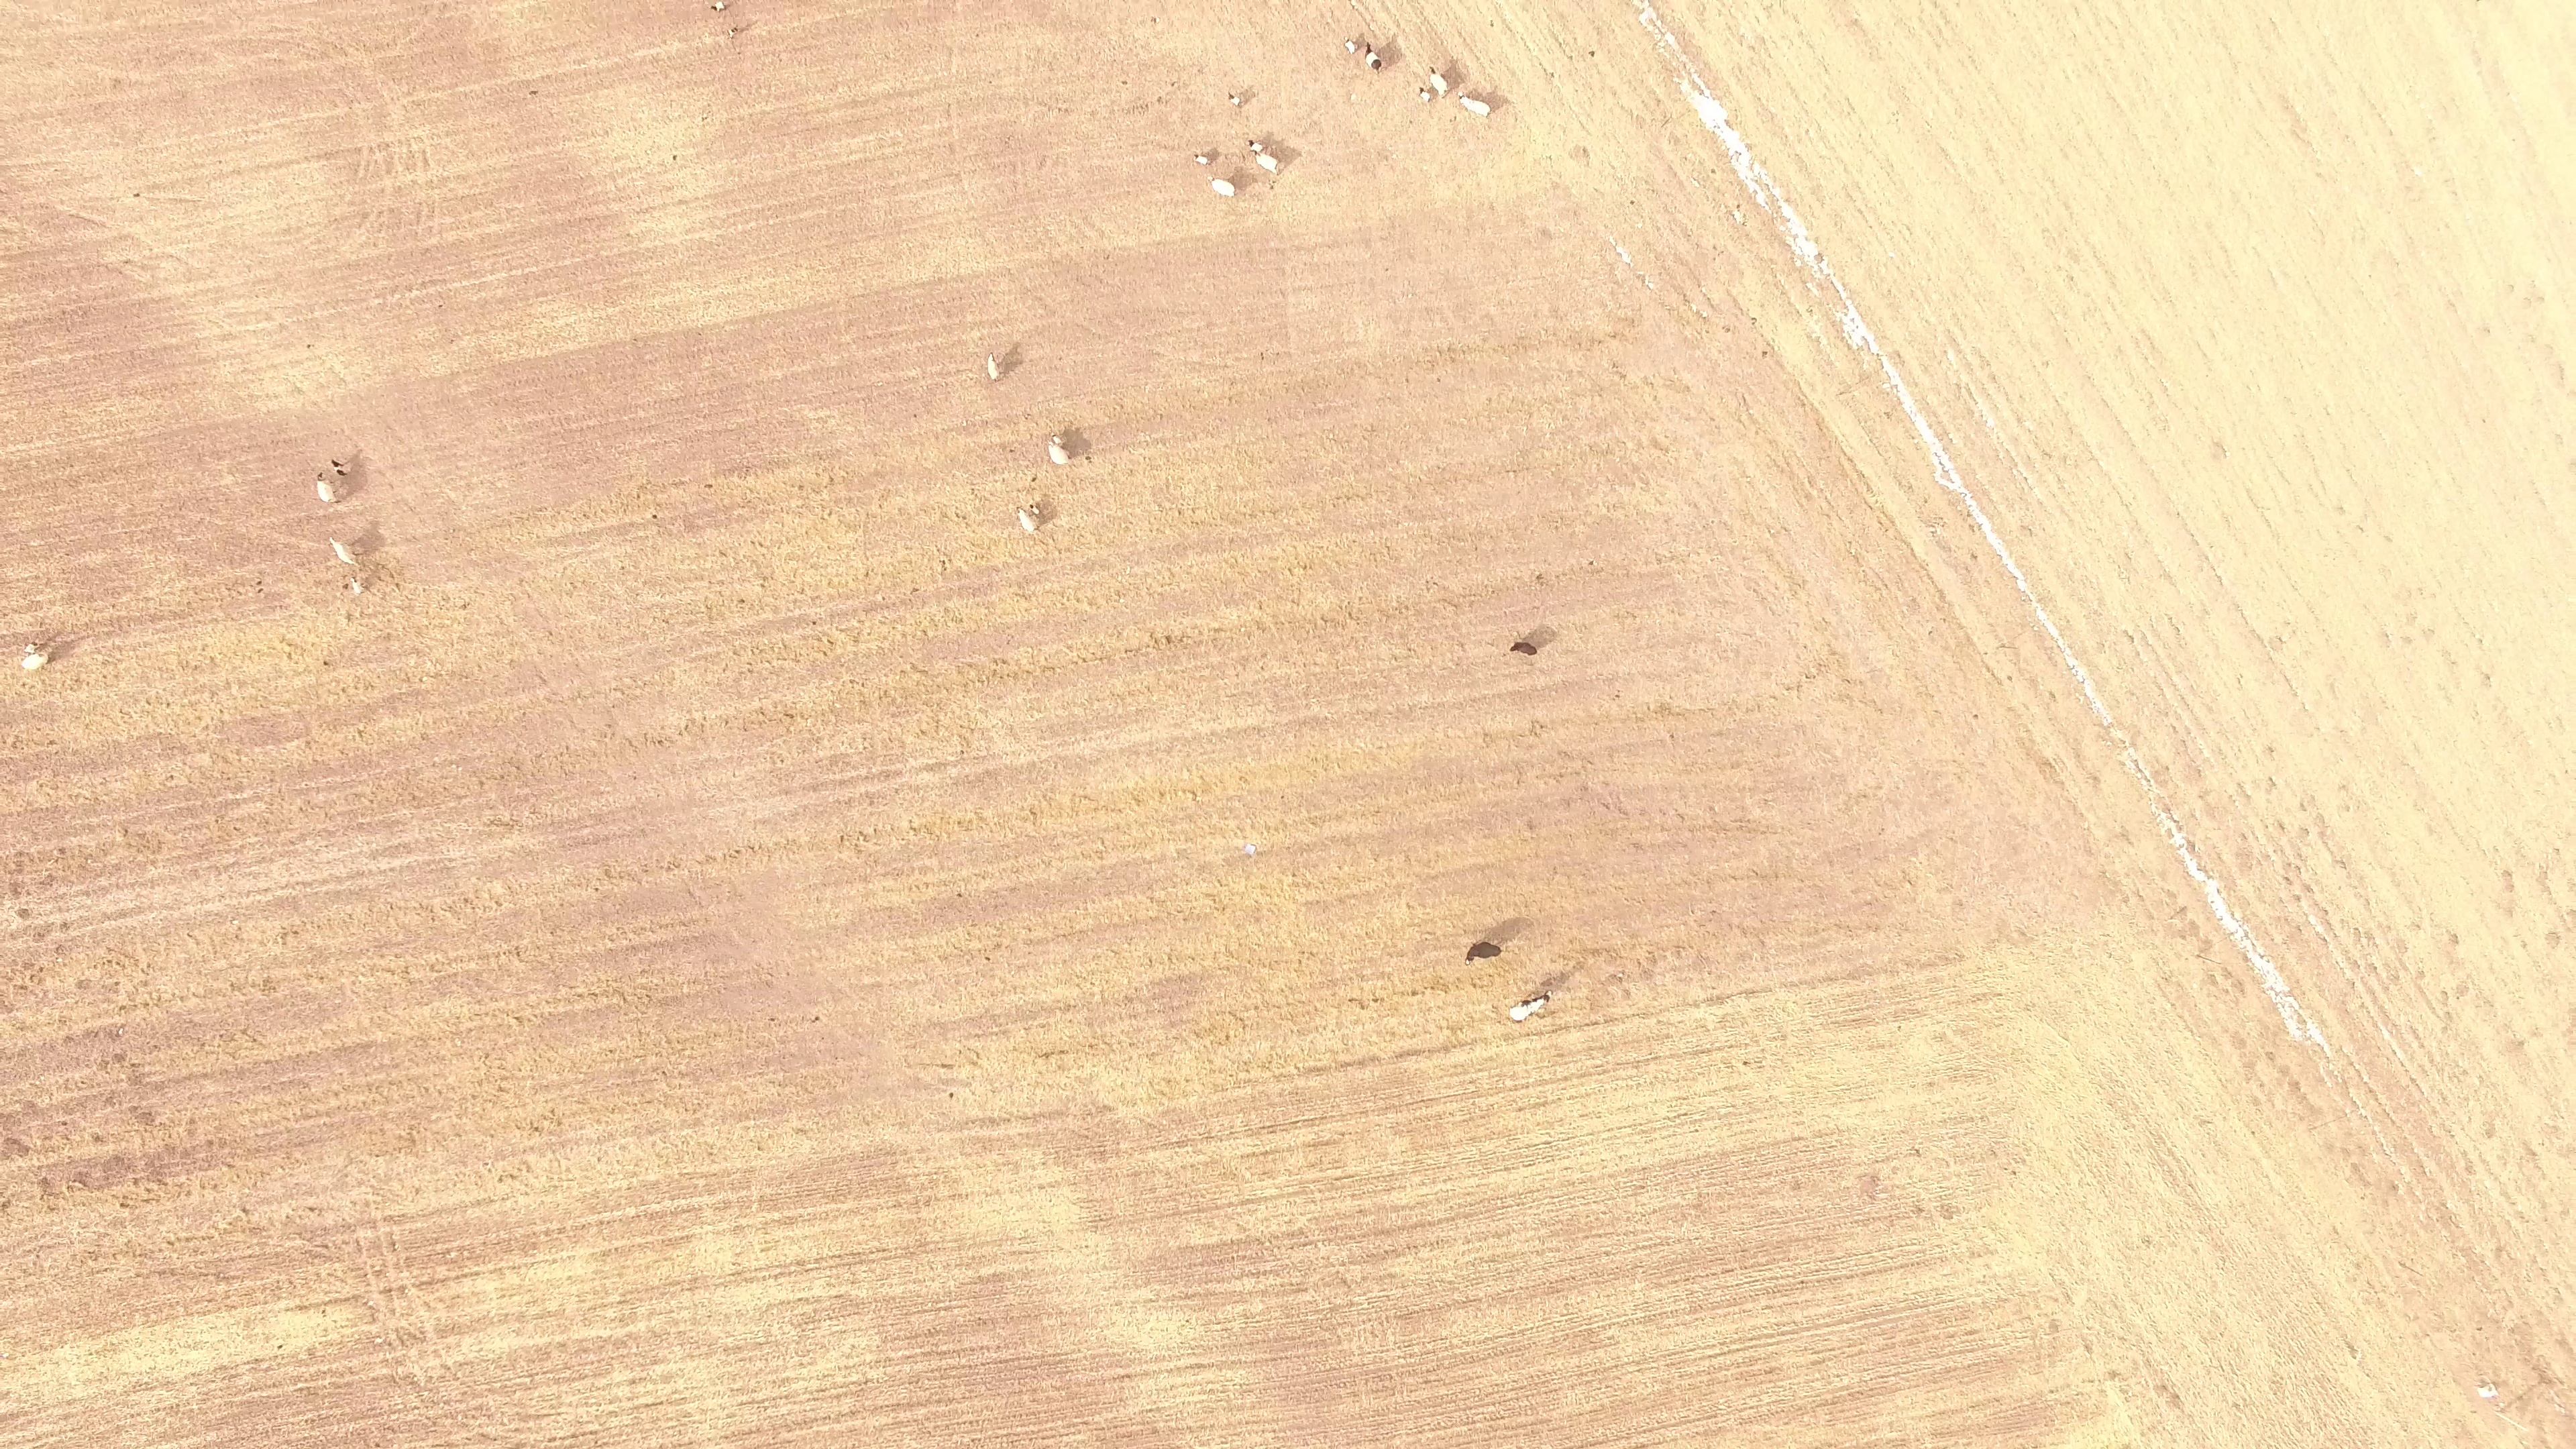sheep: (1509, 990, 1554, 1025), (1464, 934, 1504, 964), (1454, 91, 1496, 119), (15, 645, 54, 676), (328, 537, 360, 570), (310, 469, 339, 506), (1203, 172, 1242, 199), (981, 347, 1004, 386), (1044, 440, 1074, 472), (1013, 504, 1040, 538), (1427, 64, 1450, 99), (1253, 148, 1285, 174), (1361, 41, 1386, 74), (1506, 637, 1540, 659), (1188, 148, 1216, 169), (347, 576, 368, 598), (1245, 136, 1269, 158), (330, 458, 351, 481), (1339, 36, 1360, 55), (1226, 91, 1245, 111), (708, 1, 732, 13), (1415, 83, 1432, 105)
unknown: (1043, 500, 1061, 532), (1000, 357, 1026, 377), (44, 643, 64, 667), (354, 535, 371, 550), (2475, 1385, 2492, 1400), (1538, 975, 1556, 989), (3, 1134, 20, 1148), (36, 639, 52, 653), (2214, 902, 2226, 918), (76, 1176, 89, 1188), (1508, 918, 1519, 930), (1163, 633, 1175, 646), (239, 1205, 252, 1216), (2188, 841, 2198, 855), (45, 634, 58, 644), (1, 1413, 10, 1426), (2169, 1390, 2182, 1402), (2537, 1373, 2548, 1386), (297, 1302, 309, 1313), (130, 1177, 142, 1188), (39, 1177, 51, 1187), (938, 1061, 950, 1071), (1355, 1058, 1368, 1069), (1057, 1047, 1068, 1057), (1358, 1002, 1368, 1013), (118, 1002, 129, 1013), (1409, 987, 1419, 999), (1489, 928, 1501, 941), (46, 737, 58, 748), (320, 658, 333, 669), (64, 639, 74, 651), (340, 581, 352, 592), (1006, 347, 1017, 359), (1499, 95, 1510, 106), (545, 1436, 555, 1446), (587, 1428, 598, 1438), (1122, 1371, 1132, 1381), (2109, 1370, 2119, 1380), (325, 1297, 335, 1307), (380, 1287, 391, 1297), (388, 1238, 398, 1249), (182, 1234, 193, 1245), (1296, 1228, 1307, 1238), (1945, 1212, 1956, 1222), (307, 1204, 317, 1215), (1, 1201, 11, 1212), (117, 1200, 127, 1210), (1913, 1146, 1923, 1157), (21, 1144, 32, 1155), (205, 1137, 216, 1148), (409, 1136, 419, 1146), (531, 1124, 541, 1134), (946, 1089, 957, 1100), (1561, 1074, 1571, 1084), (1313, 1065, 1324, 1075), (111, 1051, 122, 1061), (1410, 1048, 1420, 1059), (1697, 1047, 1707, 1057), (2313, 1032, 2323, 1042), (812, 1014, 822, 1024), (513, 1014, 523, 1024), (111, 979, 122, 989), (1558, 970, 1568, 980), (36, 965, 46, 975), (2252, 959, 2262, 969), (60, 920, 70, 930), (9, 920, 19, 931), (10, 885, 21, 896), (2192, 870, 2202, 881), (14, 866, 25, 877), (57, 845, 68, 857), (1248, 843, 1258, 854), (954, 818, 964, 828), (289, 739, 299, 749), (786, 711, 797, 722), (2483, 673, 2493, 683), (23, 643, 34, 655), (54, 628, 64, 639), (809, 618, 819, 628), (362, 574, 372, 586), (1534, 572, 1545, 583), (1047, 512, 1057, 522), (649, 512, 660, 522), (1083, 453, 1093, 463), (1249, 175, 1259, 185), (1708, 166, 1718, 176), (1242, 95, 1252, 105), (1587, 48, 1598, 59), (372, 1440, 383, 1449), (1759, 348, 1770, 358), (568, 1431, 579, 1441), (1149, 1427, 1159, 1437), (2516, 1393, 2526, 1403), (526, 1371, 536, 1381), (1197, 1361, 1207, 1371), (2347, 1342, 2357, 1352), (426, 1278, 436, 1288), (530, 1239, 540, 1249), (75, 1169, 85, 1179), (226, 1161, 236, 1171), (60, 1119, 70, 1129), (129, 1060, 139, 1070), (1740, 1058, 1750, 1069), (113, 1030, 123, 1040), (1371, 996, 1381, 1006), (105, 957, 115, 967), (462, 896, 472, 906), (2504, 870, 2514, 880), (837, 833, 847, 843), (655, 737, 665, 747), (737, 596, 747, 606), (131, 191, 142, 201), (513, 1440, 523, 1449), (130, 1104, 140, 1114), (366, 580, 376, 590)
